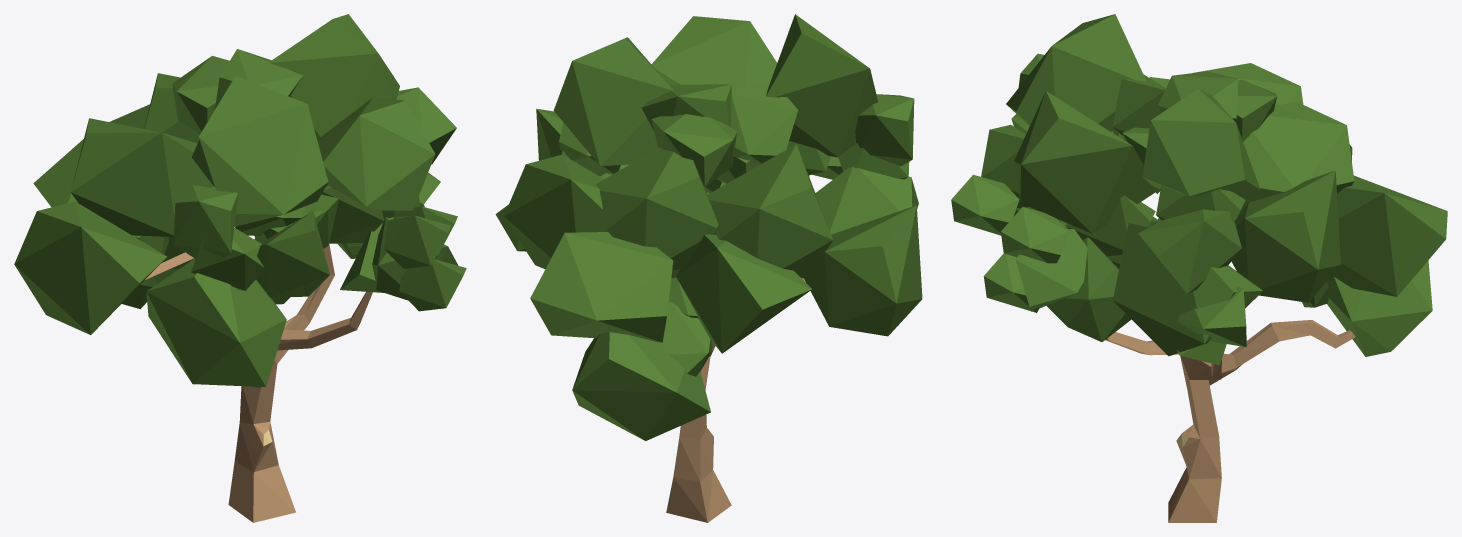
File: tree.obj
3 renders of one model, left to right at view 1: azimuth 30°, elevation 25°; view 2: azimuth 150°, elevation 25°; view 3: azimuth 270°, elevation 25°, orthographic. The views are drawn at different scales.
Parts seen in each view (by area): view 1: tree1; view 2: tree1; view 3: tree1.
Boxes of the visible parts, x1,y1,x2,y2 form: tree1: [14, 14, 466, 522]; tree1: [495, 14, 922, 522]; tree1: [951, 14, 1447, 522].
Bounding box in the file's own units: 6.27 × 6.98 × 6.73.
1 material, 1 textured.
